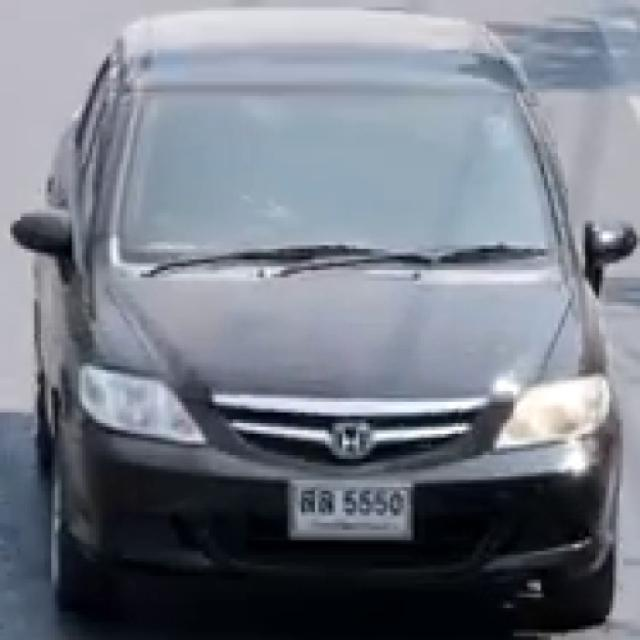plate: (294, 482, 412, 540)
